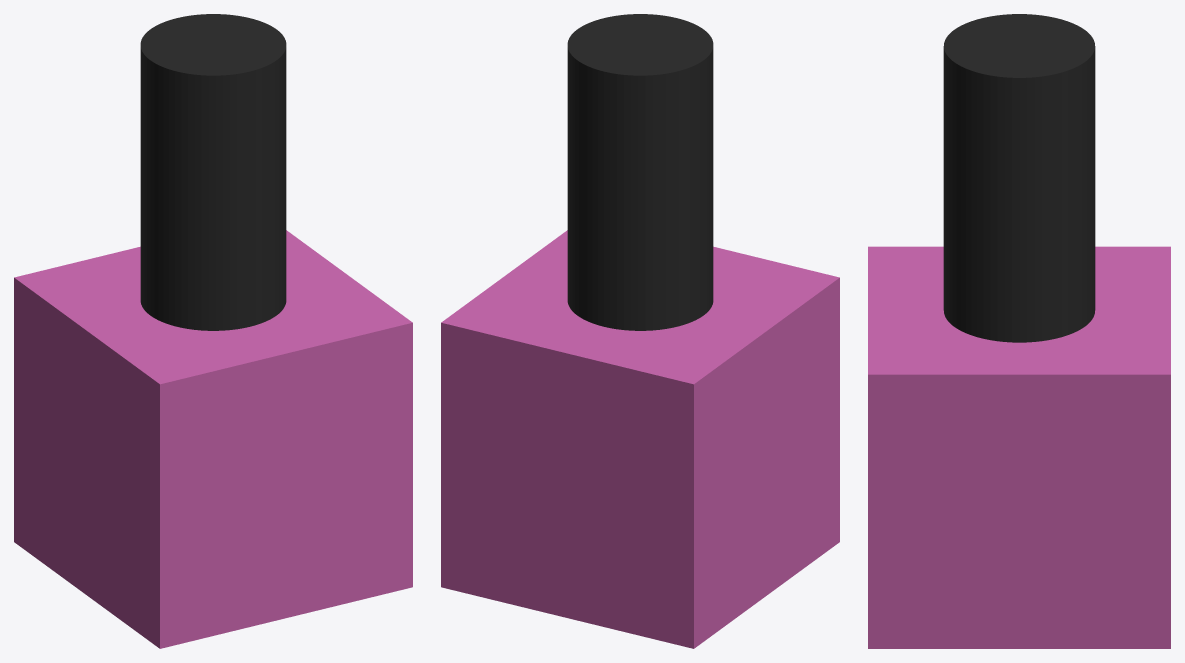
The model's file is nailPolish.fbx.
3 renders of one model, left to right at view 1: azimuth 30°, elevation 25°; view 2: azimuth 150°, elevation 25°; view 3: azimuth 270°, elevation 25°, orthographic. The views are drawn at different scales.
Visible parts, largest first — view 1: Cube, Cylinder; view 2: Cube, Cylinder; view 3: Cube, Cylinder.
Part boxes in pixels (x1,y1,x2,y2): Cube: (14,230,412,648); Cylinder: (140,14,286,330); Cube: (441,230,839,648); Cylinder: (567,14,713,330); Cube: (868,246,1170,648); Cylinder: (943,14,1095,342).
Bounding box in the file's own units: 200 × 393 × 200.
